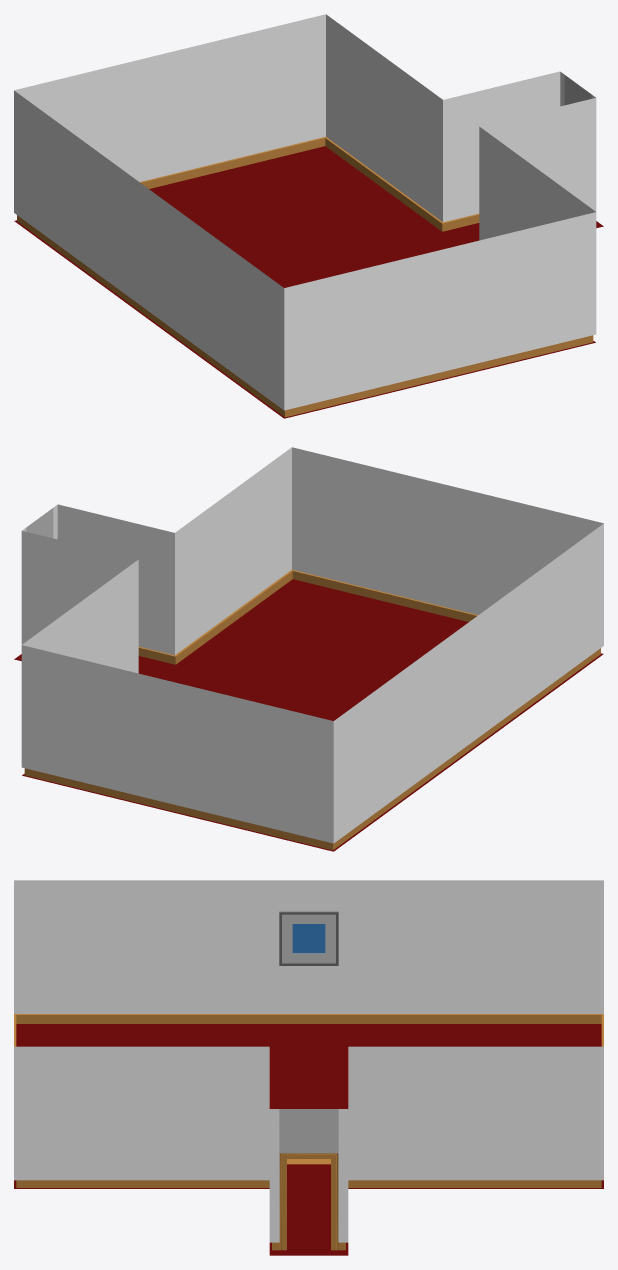
File: muse2.obj
The picture shows the model from 3 angles, top to bottom: view 1: azimuth 30°, elevation 25°; view 2: azimuth 150°, elevation 25°; view 3: azimuth 270°, elevation 25°; orthographic projection. The views are drawn at different scales.
Parts seen in each view (by area): view 1: White, Red, Tan; view 2: White, Red, Tan; view 3: White, Red, Tan, Eggshell, Blue, Silver.
Boxes of the visible parts, x1,y1,x2,y2 form: White: [14, 14, 596, 410]; Red: [14, 146, 603, 418]; Tan: [17, 136, 593, 417]; White: [21, 447, 603, 843]; Red: [14, 579, 603, 851]; Tan: [24, 569, 600, 850]; White: [14, 880, 603, 1242]; Red: [14, 1024, 603, 1255]; Tan: [14, 1014, 603, 1250]; Eggshell: [282, 914, 335, 963]; Blue: [292, 924, 325, 953]; Silver: [279, 911, 338, 965].
Size of the model in its own units: 11.2 by 3.2 by 12.
